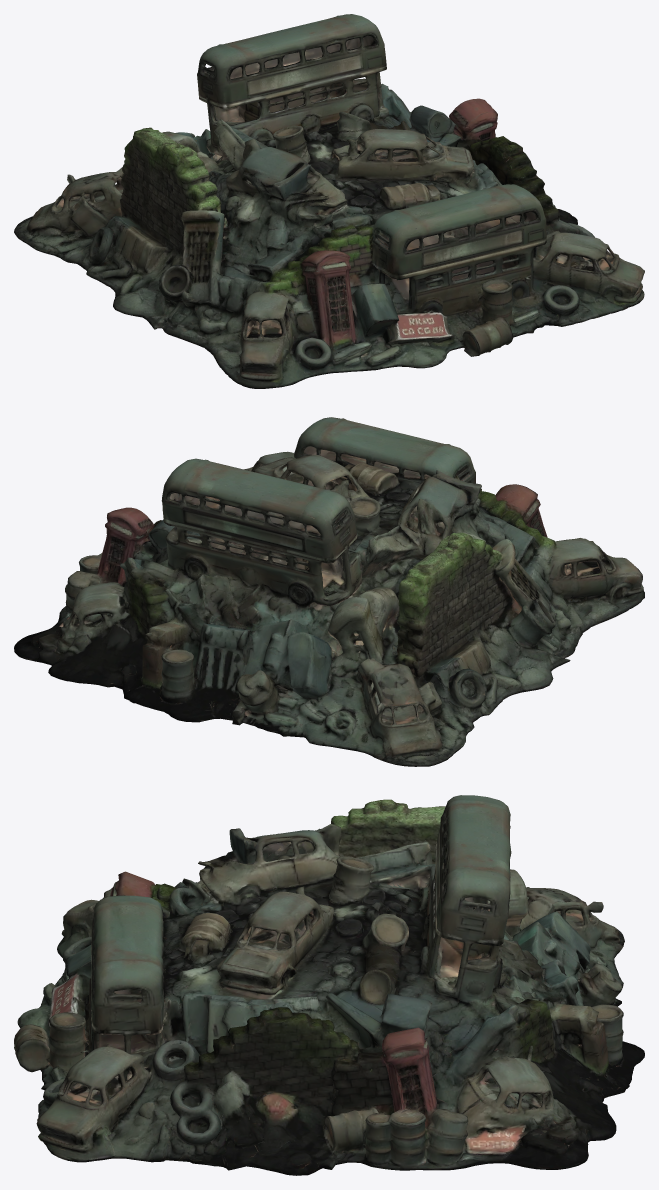
The model's file is prop_big_garbage.glb.
The picture shows the model from 3 angles, top to bottom: view 1: azimuth 30°, elevation 25°; view 2: azimuth 150°, elevation 25°; view 3: azimuth 270°, elevation 25°; orthographic projection. The views are drawn at different scales.
Parts seen in each view (by area): view 1: Mesh_0; view 2: Mesh_0; view 3: Mesh_0.
Part boxes in pixels (box(x1,y1,x2,y2)): Mesh_0: box(14, 14, 644, 388); Mesh_0: box(14, 417, 644, 766); Mesh_0: box(14, 795, 644, 1175).
Size of the model in its own units: 35.72 by 15 by 37.12.
Materials: 1 (1 with a texture image).
